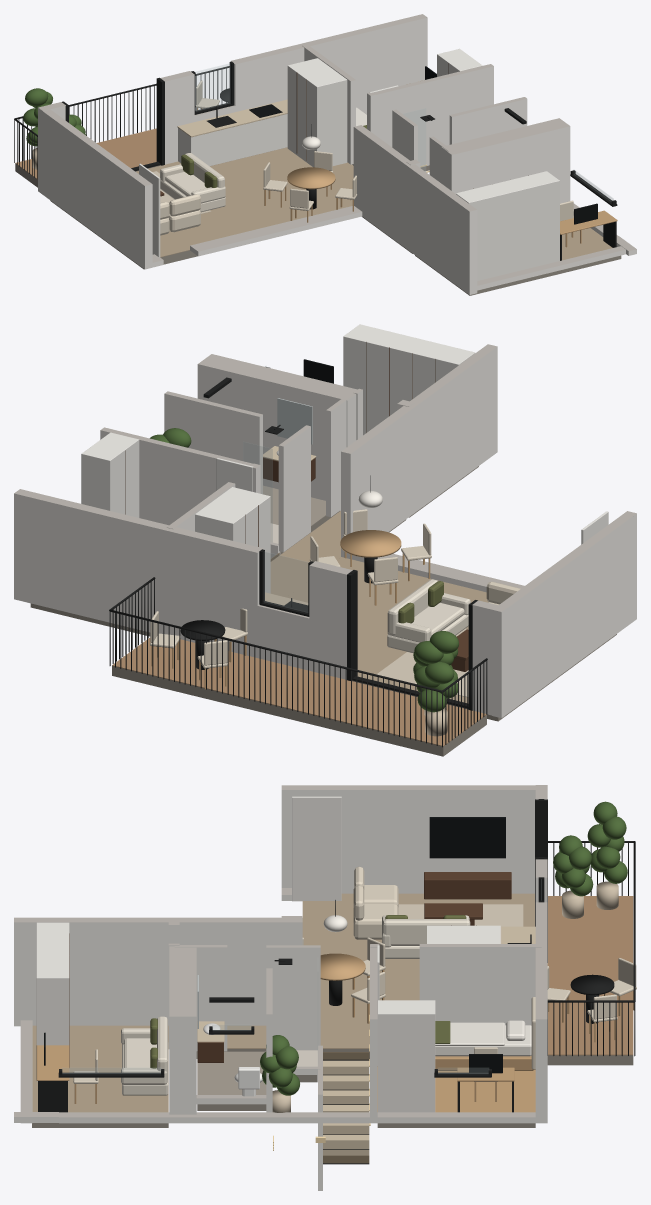
The model's file is apt-3-1.glb.
3 renders of one model, top to bottom at view 1: azimuth 30°, elevation 25°; view 2: azimuth 150°, elevation 25°; view 3: azimuth 270°, elevation 25°, orthographic. The views are drawn at different scales.
Visible parts, largest first — view 1: Wall hall-W, Wall W, Wall N-facade.002, Study wardrobe | body, Floor | living, Wall bath-S, Wall bed1-S, Kitchen tall units | body, Kitchen run | bases, Wall bath-N, Wall S-living.001, Wall N-facade.001 (+21 smaller); view 2: Wall N-facade.002, Wall hall-W, Wall W, Floor | balcony, Wall bath-S, Study wardrobe | body, Wall bed1-S, Floor | living, Wall bath-N, Kids wardrobe | body, Wall N-facade.001, Slab | balcony (+22 smaller); view 3: Wall hall-W, Wall W, Floor | balcony, Wall bed1-W, Floor | living, Kids wardrobe | body, Floor | mamad, S-living door 0 | leaf, Wall hall-E, Wall bath-S, Study wardrobe | body, Floor | bed1 (+46 smaller).
Part boxes in pixels (left/top/right/bottom): Wall hall-W: left=353, top=125, right=477, bottom=294; Wall W: left=38, top=108, right=152, bottom=269; Wall N-facade.002: left=230, top=14, right=427, bottom=114; Study wardrobe | body: left=456, top=171, right=559, bottom=280; Floor | living: left=136, top=147, right=352, bottom=257; Wall bath-S: left=441, top=118, right=570, bottom=203; Wall bed1-S: left=370, top=64, right=493, bottom=167; Kitchen tall units | body: left=287, top=58, right=347, bottom=167; Kitchen run | bases: left=178, top=114, right=287, bottom=166; Wall bath-N: left=449, top=97, right=527, bottom=144; Wall S-living.001: left=190, top=206, right=362, bottom=256; Wall N-facade.001: left=160, top=71, right=194, bottom=164; Wall N-facade.002: left=14, top=489, right=263, bottom=657; Wall hall-W: left=341, top=344, right=497, bottom=558; Wall W: left=492, top=511, right=636, bottom=718; Floor | balcony: left=112, top=637, right=486, bottom=746; Wall bath-S: left=197, top=354, right=357, bottom=500; Study wardrobe | body: left=343, top=324, right=475, bottom=435; Wall bed1-S: left=100, top=427, right=252, bottom=525; Floor | living: left=286, top=557, right=488, bottom=703; Wall bath-N: left=164, top=391, right=262, bottom=494; Kids wardrobe | body: left=81, top=432, right=139, bottom=517; Wall N-facade.001: left=309, top=561, right=352, bottom=679; Slab | balcony: left=112, top=666, right=486, bottom=756; Wall hall-W: left=14, top=917, right=302, bottom=1026; Wall W: left=281, top=785, right=535, bottom=893; Floor | balcony: left=547, top=896, right=633, bottom=1055; Wall bed1-W: left=419, top=944, right=541, bottom=1025; Floor | living: left=302, top=893, right=534, bottom=1025; Kids wardrobe | body: left=378, top=1000, right=435, bottom=1112; Floor | mamad: left=32, top=1025, right=168, bottom=1112; S-living door 0 | leaf: left=292, top=796, right=341, bottom=901; Wall hall-E: left=266, top=945, right=320, bottom=1050; Wall bath-S: left=169, top=946, right=196, bottom=1114; Study wardrobe | body: left=36, top=922, right=69, bottom=1081; Floor | bed1: left=377, top=1066, right=535, bottom=1112.
Size of the model in its own units: 10.17 by 3.94 by 11.4.
